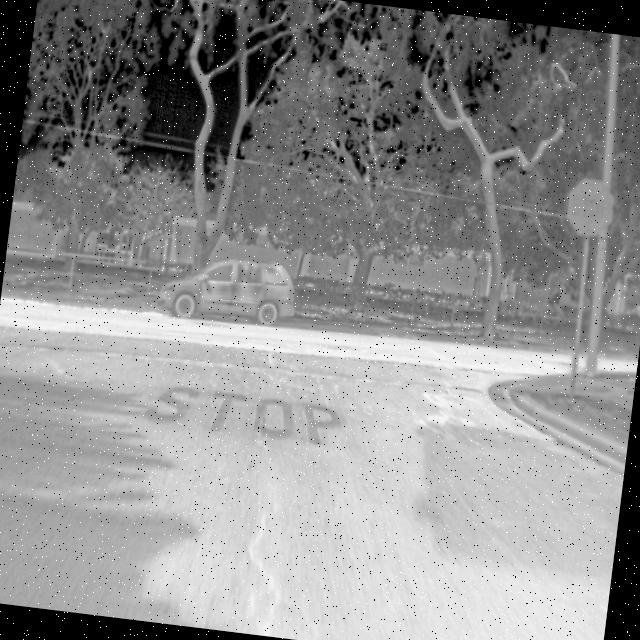Vehicle: (152, 245, 302, 334)
